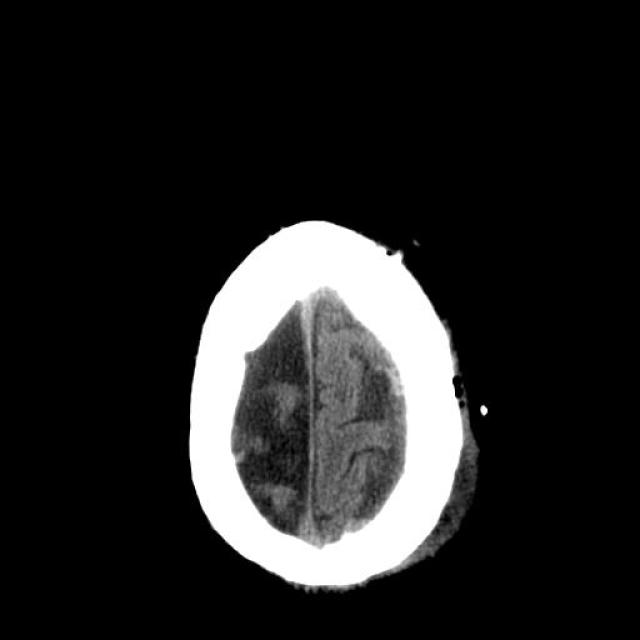Subdural: (286, 283, 329, 395)
